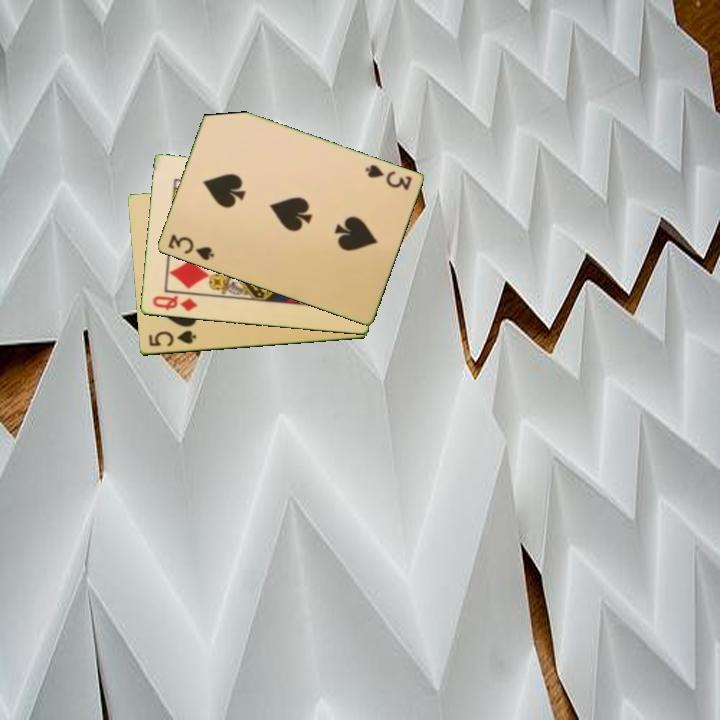3s: (164, 231, 217, 264), (361, 161, 414, 193)
5s: (145, 327, 199, 350)
Qd: (149, 292, 200, 315)
